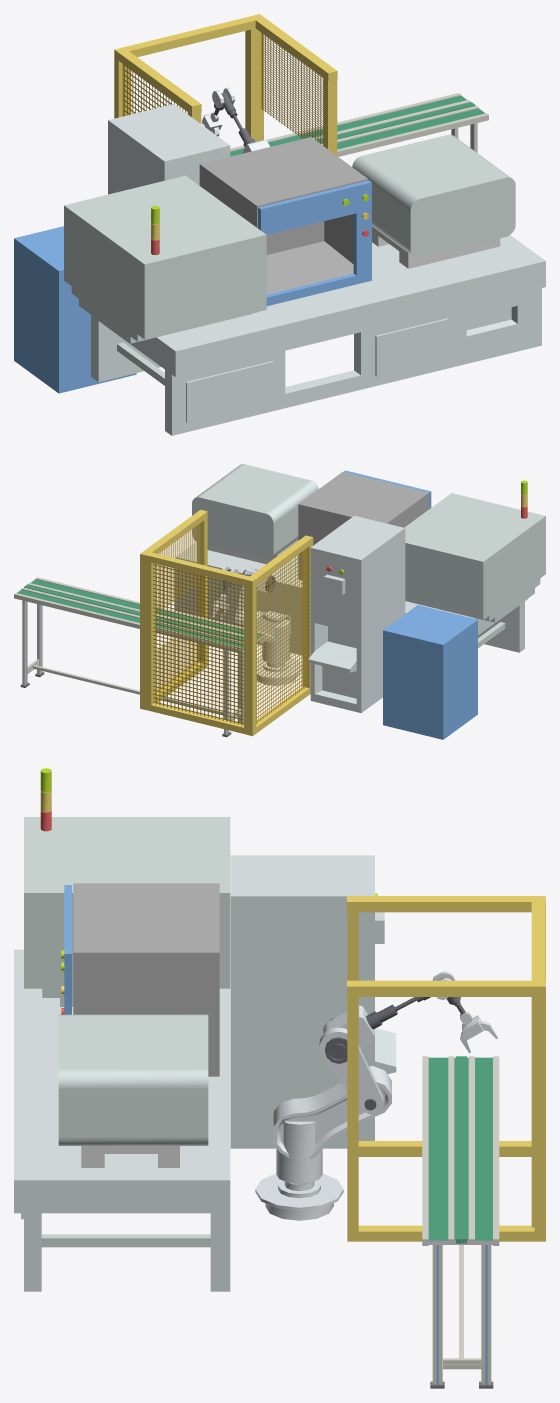
The model's file is moldRepair.glb.
3 renders of one model, top to bottom at view 1: azimuth 30°, elevation 25°; view 2: azimuth 150°, elevation 25°; view 3: azimuth 270°, elevation 25°, orthographic. The views are drawn at different scales.
Visible parts, largest first — view 1: 立方体 (×4), 立方体.1 (×2), 立方体.2 (×4), 立方体.9 (×2), 立方体.5, 立方体.33, 立方体.10 (×2), 平面.1, 立方体.3, 立方体.4, 立方体.7-材质.2, 立方体.8 (×2) (+4 smaller); view 2: 立方体.1 (×3), 立方体.33, 立方体.5 (×2), 立方体.2 (×4), 立方体 (×5), 平面.4, 立方体.9 (×2), 平面, 立方体.3 (×3), 立方体.7-材质.2, 圆柱, 平面.1 (+8 smaller); view 3: 立方体 (×5), 立方体.33, 立方体.2 (×4), 立方体.1 (×3), 立方体.9 (×2), 立方体.7-材质.2, 圆柱, 立方体.3 (×3), 立方体.8 (×2), 立方体.7, 立方体.10 (×2), 立方体.26-材质.1 (+3 smaller).
Part boxes in pixels (x1,y1,x2,y2): 立方体 (×4): (91, 14, 545, 435); 立方体.1 (×2): (64, 70, 337, 343); 立方体.2 (×4): (114, 21, 368, 294); 立方体.9 (×2): (321, 105, 515, 257); 立方体.5: (14, 226, 136, 393); 立方体.33: (108, 104, 230, 194); 立方体.10 (×2): (258, 99, 470, 306); 平面.1: (260, 33, 323, 145); 立方体.3: (186, 361, 273, 422); 立方体.4: (375, 318, 448, 376); 立方体.7-材质.2: (230, 95, 484, 156); 立方体.8 (×2): (315, 102, 500, 268); 立方体.1 (×3): (197, 493, 545, 688); 立方体.33: (308, 515, 405, 713); 立方体.5 (×2): (33, 605, 477, 739); 立方体.2 (×4): (140, 472, 428, 736); 立方体 (×5): (140, 509, 527, 655); 平面.4: (153, 564, 243, 725); 立方体.9 (×2): (27, 464, 318, 636); 平面: (256, 549, 306, 723); 立方体.3 (×3): (147, 662, 310, 733); 立方体.7-材质.2: (17, 579, 262, 648); 圆柱: (257, 619, 302, 685); 平面.1: (156, 524, 199, 612); 立方体 (×5): (14, 896, 545, 1291); 立方体.33: (230, 855, 396, 1148); 立方体.2 (×4): (73, 883, 545, 1241); 立方体.1 (×3): (24, 817, 358, 1241); 立方体.9 (×2): (58, 1014, 454, 1243); 立方体.7-材质.2: (428, 1057, 492, 1240); 圆柱: (255, 1121, 343, 1220); 立方体.3 (×3): (323, 1005, 545, 1241); 立方体.8 (×2): (81, 1056, 466, 1243); 立方体.7: (41, 1234, 210, 1247); 立方体.10 (×2): (64, 885, 474, 1243); 立方体.26-材质.1: (432, 1245, 442, 1384).
Size of the model in its own units: 196 by 94.33 by 141.
13 materials, 1 textured.
